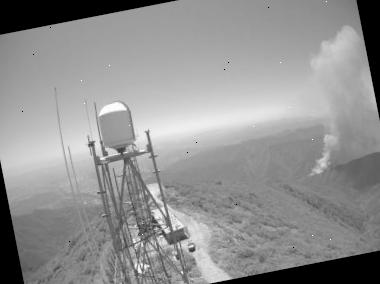smoke: (282, 21, 380, 176)
